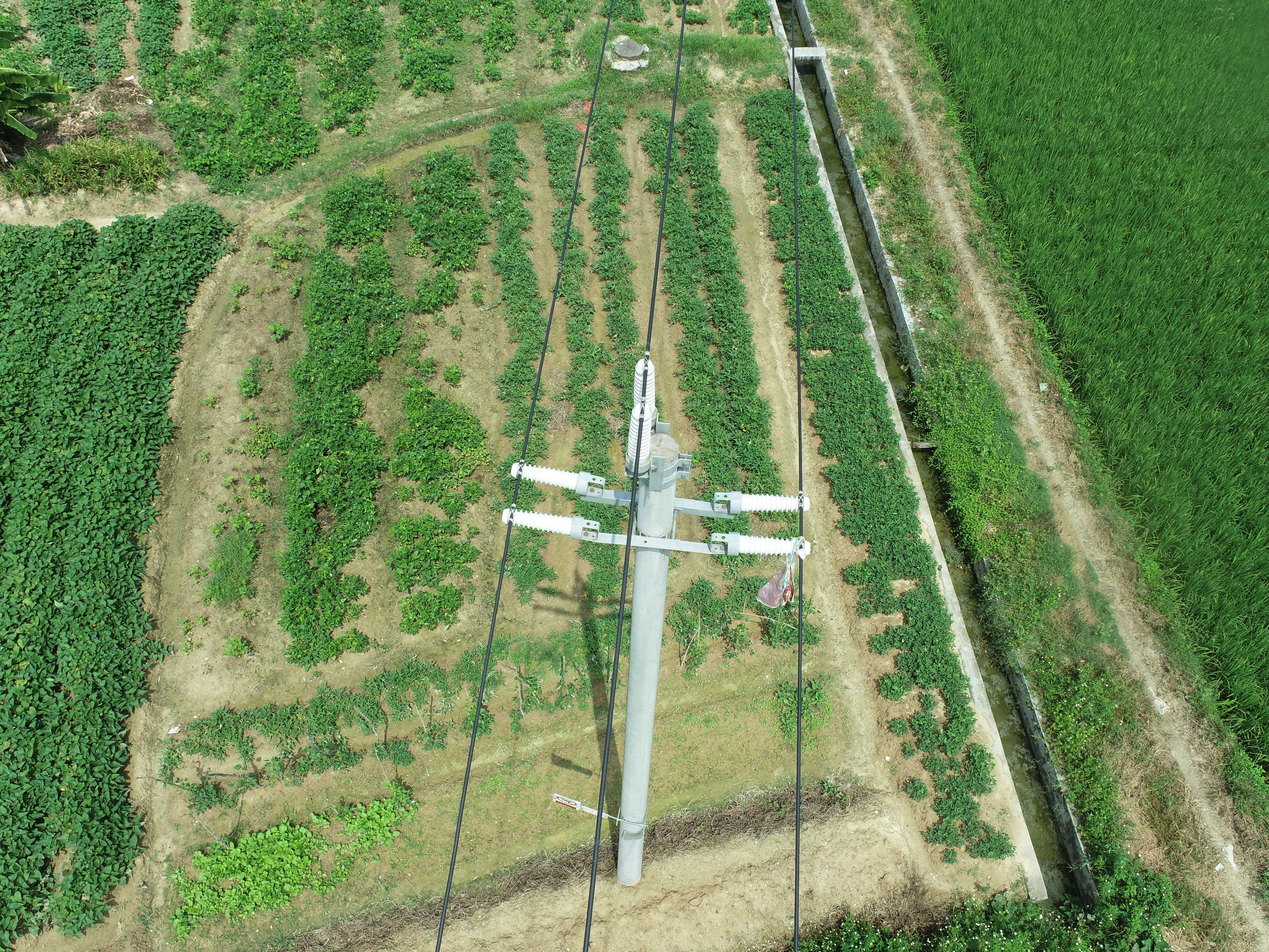异物: (755, 535, 806, 609)
